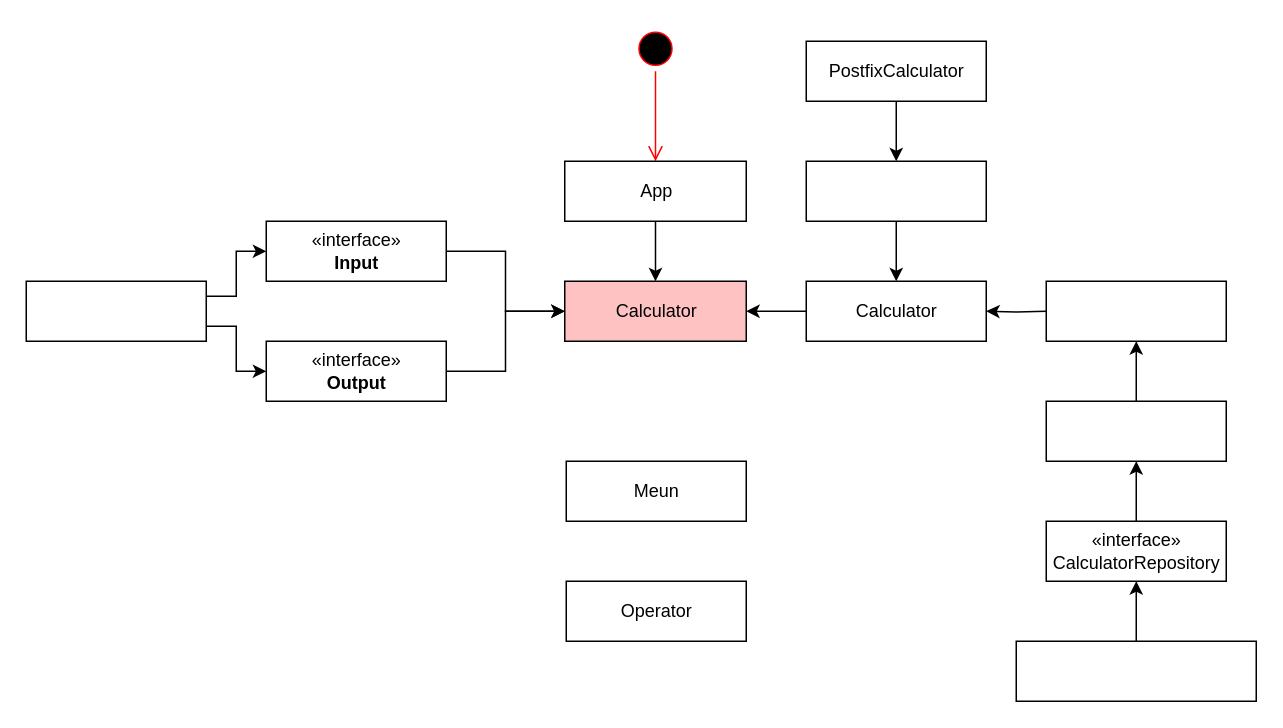
The diagram is 1283 pixels wide and 728 high, and some of its shapes have lost their labels. The shapes that lost their labels are listed below. From the top down, each one's box as (x1, y1, x2, y2) in pixels, then its label:
(805, 160, 986, 221): PostfixTranslator
(25, 280, 206, 341): Console
(1045, 280, 1226, 341): «interface» CalculatorService
(1045, 400, 1226, 461): CalculatorServiceImpl
(1015, 640, 1256, 701): CalculatorRepositoryImpl
